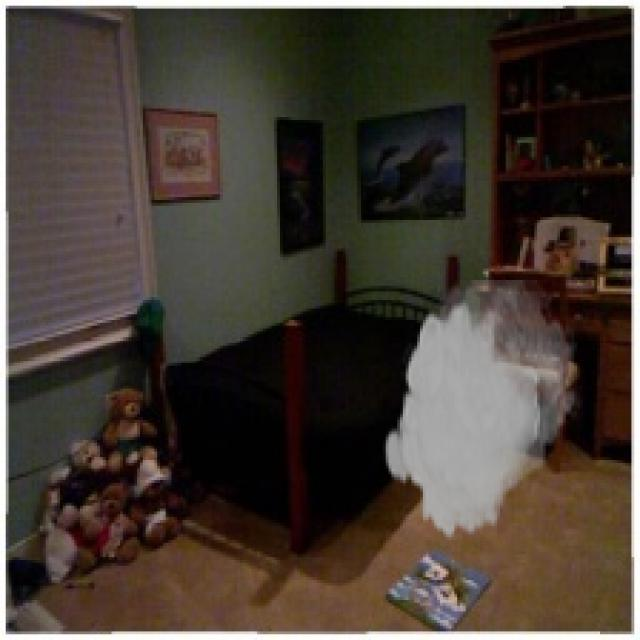smoke: (383, 280, 583, 543)
